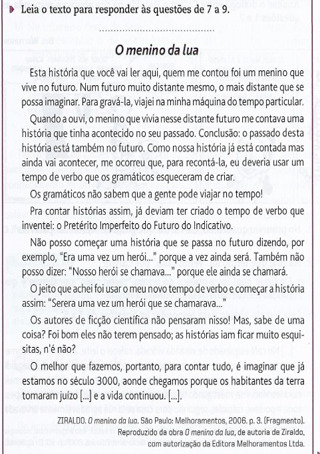Texto: (4, 4, 311, 452)
